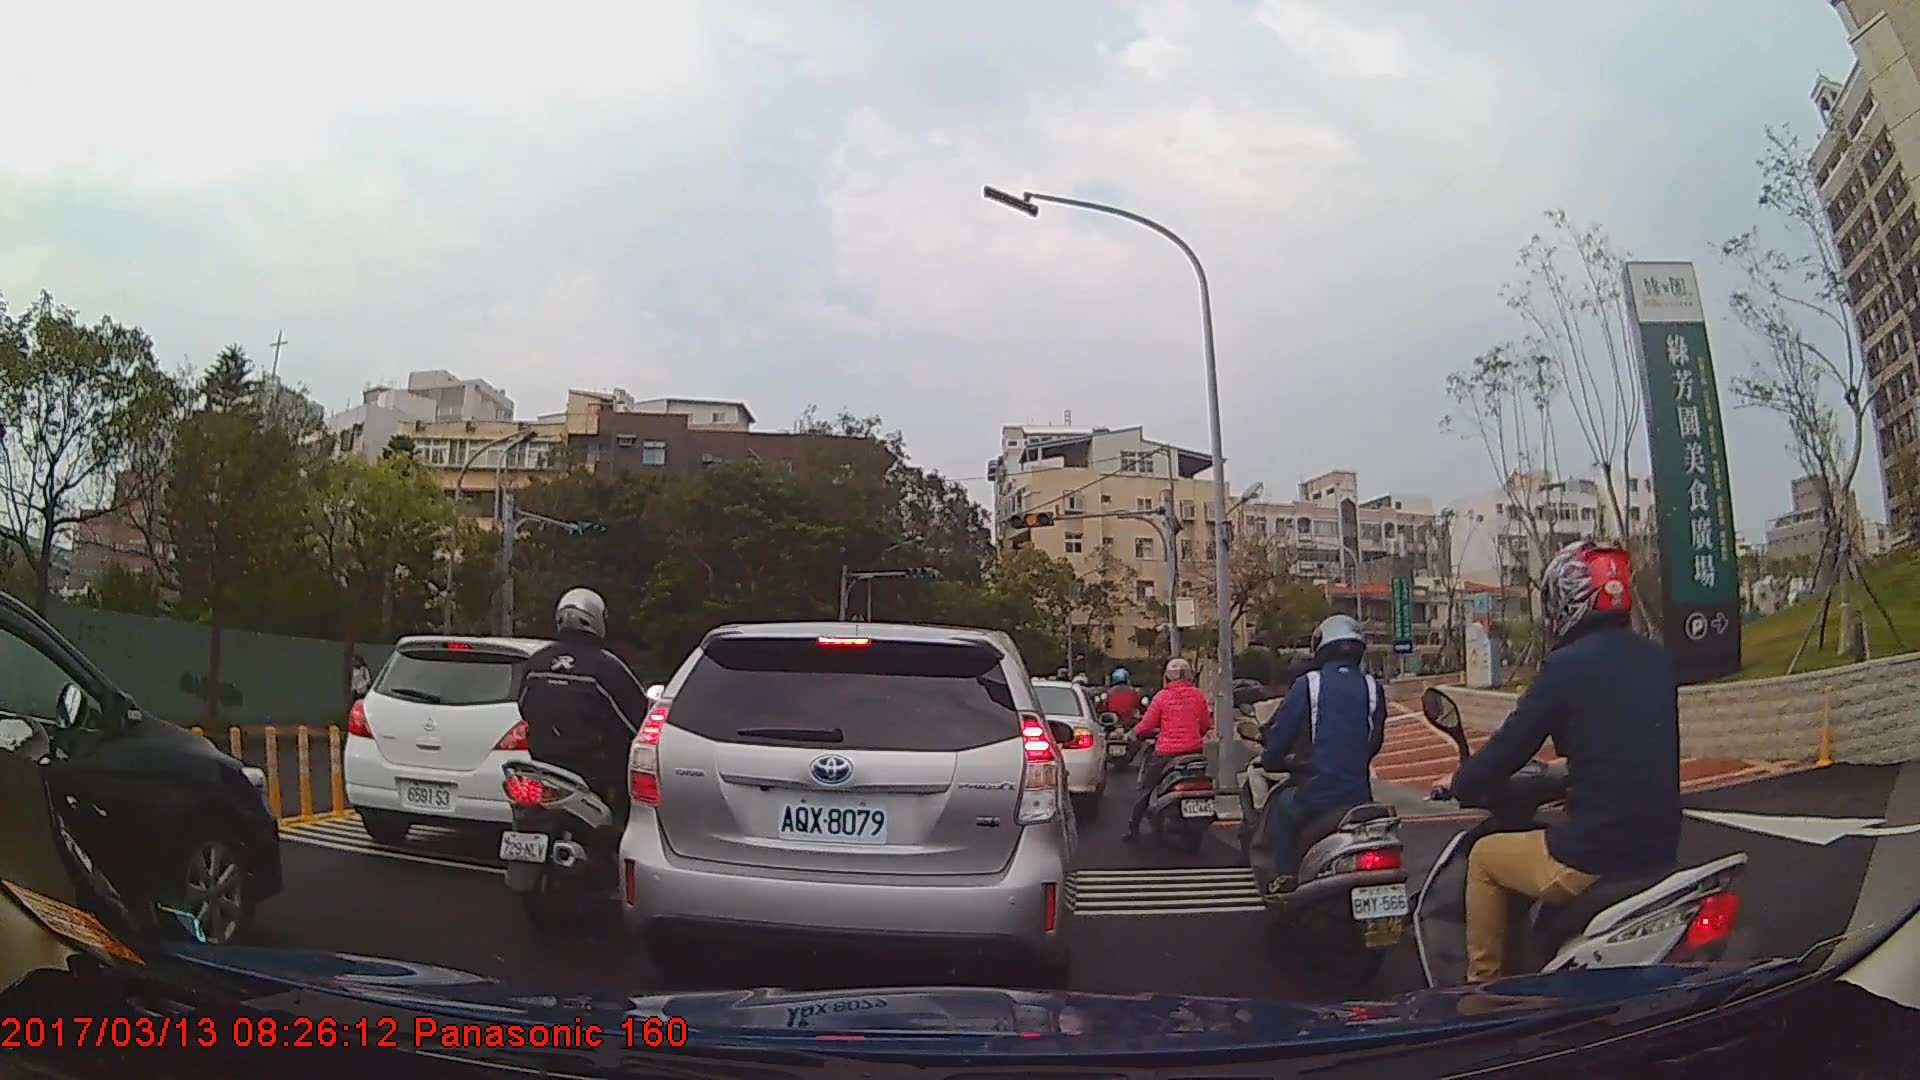pedestrian: (351, 656, 376, 731)
rider: (1425, 528, 1767, 1066), (1244, 615, 1415, 999), (493, 586, 664, 939), (1130, 660, 1222, 857), (1098, 666, 1145, 769)
vehicle: (615, 622, 1080, 1015), (0, 588, 283, 951), (341, 633, 673, 855), (1001, 678, 1108, 814), (1208, 678, 1267, 707)
